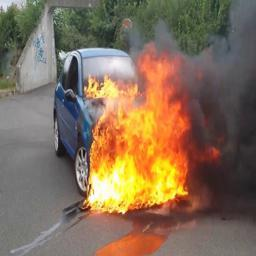fire: (84, 47, 190, 214)
